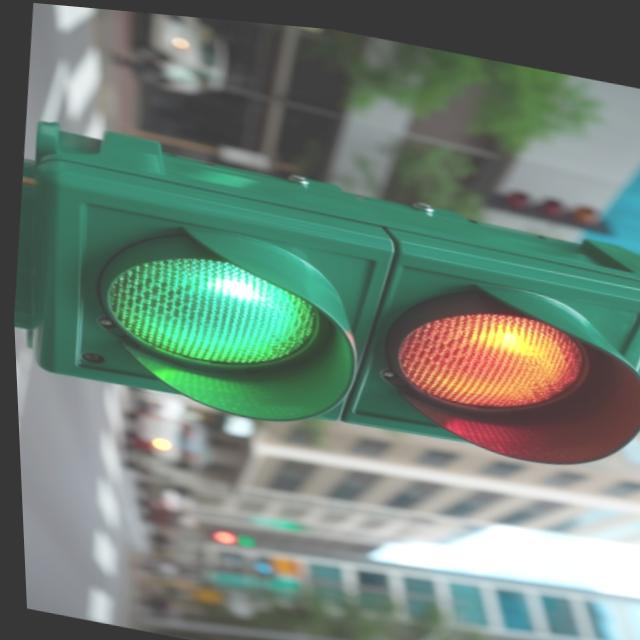Hijau: (87, 234, 322, 379)
Kuning: (385, 283, 594, 420)
